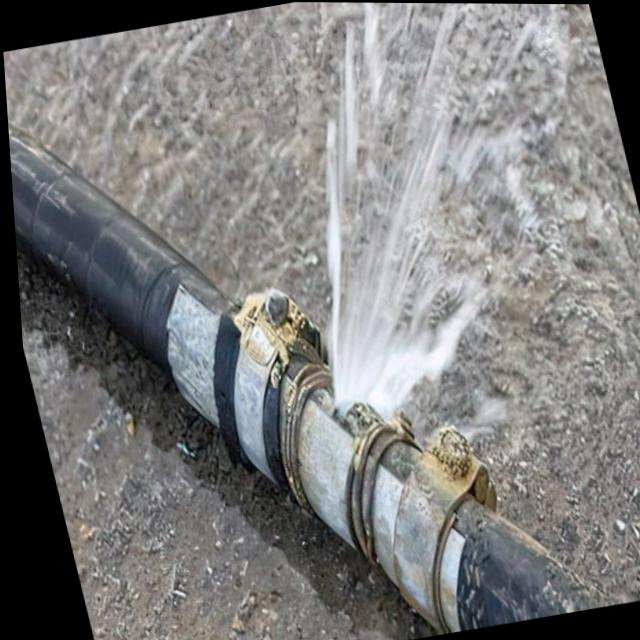leak: (265, 2, 634, 451)
